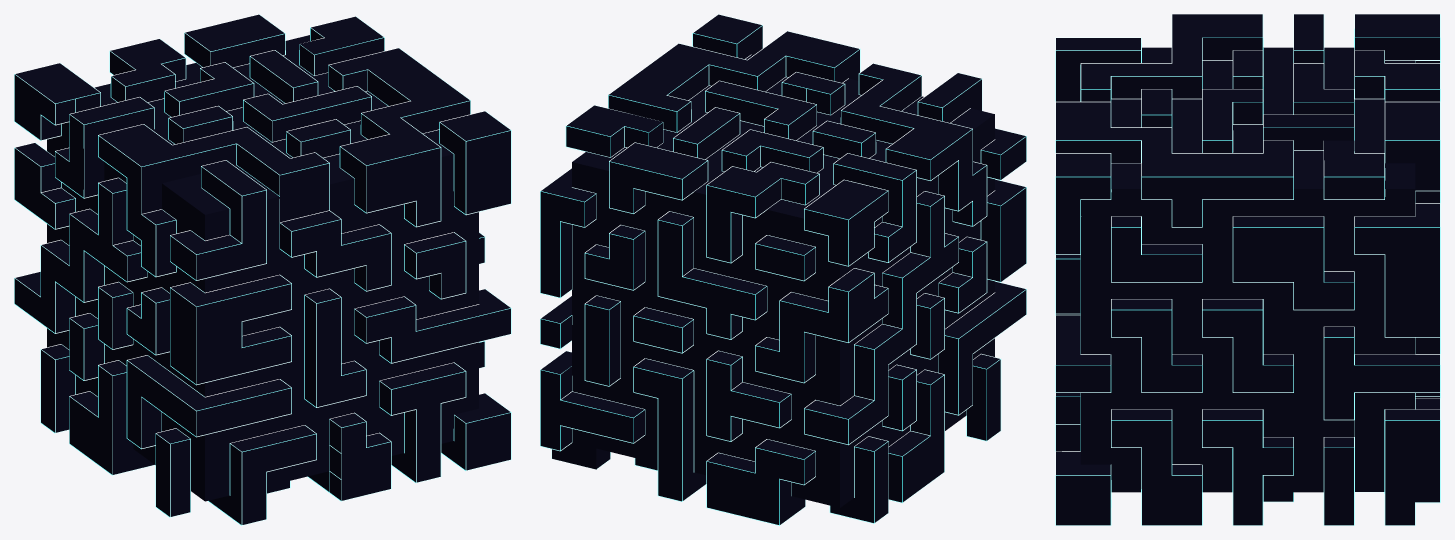
The model's file is Sketchfab_Scene.gltf.
3 views of the same model, side by side, from view 1: azimuth 30°, elevation 25°; view 2: azimuth 150°, elevation 25°; view 3: azimuth 270°, elevation 25° (orthographic). The views are drawn at different scales.
Visible parts, largest first — view 1: Maze_0, Maze Border_4; view 2: Maze_0, Maze Border_4; view 3: Maze_0, Maze Border_4.
Boxes of the visible parts, box(x1,y1,x2,y2) form: Maze_0: box(14, 14, 510, 524); Maze Border_4: box(14, 14, 511, 525); Maze_0: box(540, 14, 1026, 524); Maze Border_4: box(540, 14, 1026, 525); Maze_0: box(1056, 14, 1439, 525); Maze Border_4: box(1055, 14, 1440, 525).
Bounding box in the file's own units: 4.61 × 4.61 × 4.61.
